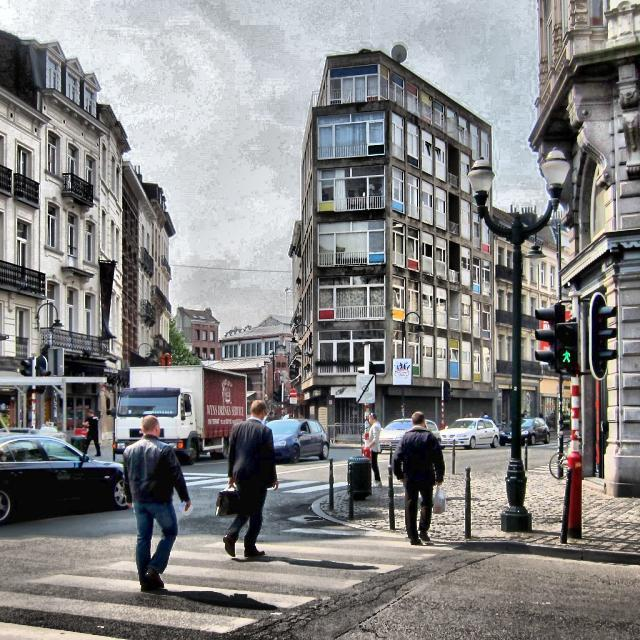green_light: (560, 348, 572, 363)
